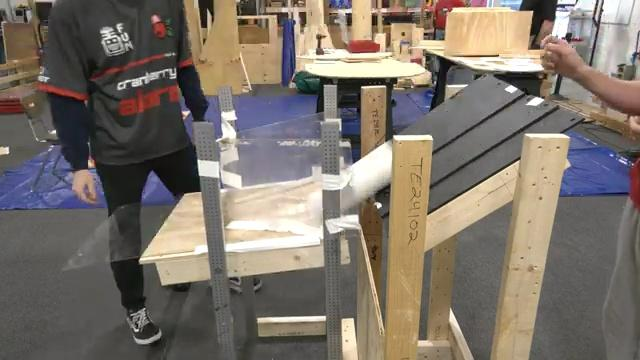CORAL: (341, 142, 393, 214)
